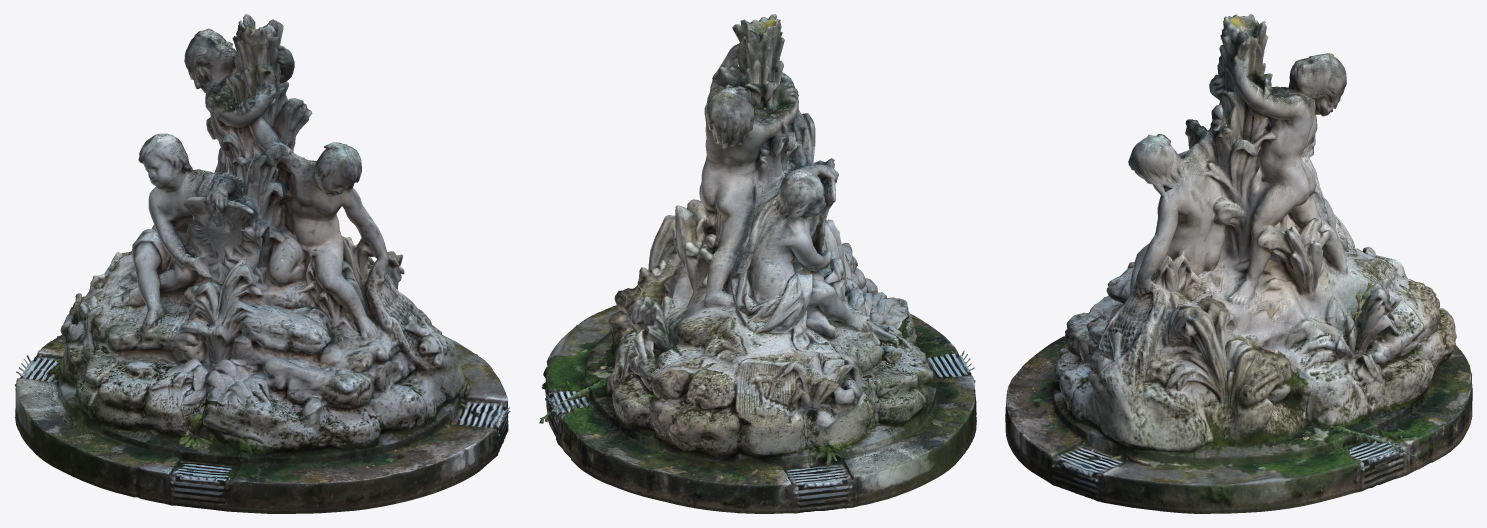
The model's file is m_prop-fountain.glb.
3 views of the same model, side by side, from view 1: azimuth 30°, elevation 25°; view 2: azimuth 150°, elevation 25°; view 3: azimuth 270°, elevation 25° (orthographic).
Visible parts, largest first — view 1: kasna_luzanky_kasna_luzanky_0; view 2: kasna_luzanky_kasna_luzanky_0; view 3: kasna_luzanky_kasna_luzanky_0.
Boxes of the visible parts, x1,y1,x2,y2 form: kasna_luzanky_kasna_luzanky_0: [15, 14, 510, 513]; kasna_luzanky_kasna_luzanky_0: [539, 14, 976, 513]; kasna_luzanky_kasna_luzanky_0: [1005, 14, 1472, 513].
Size of the model in its own units: 3.25 by 3.05 by 3.26.
1 material, 1 textured.
